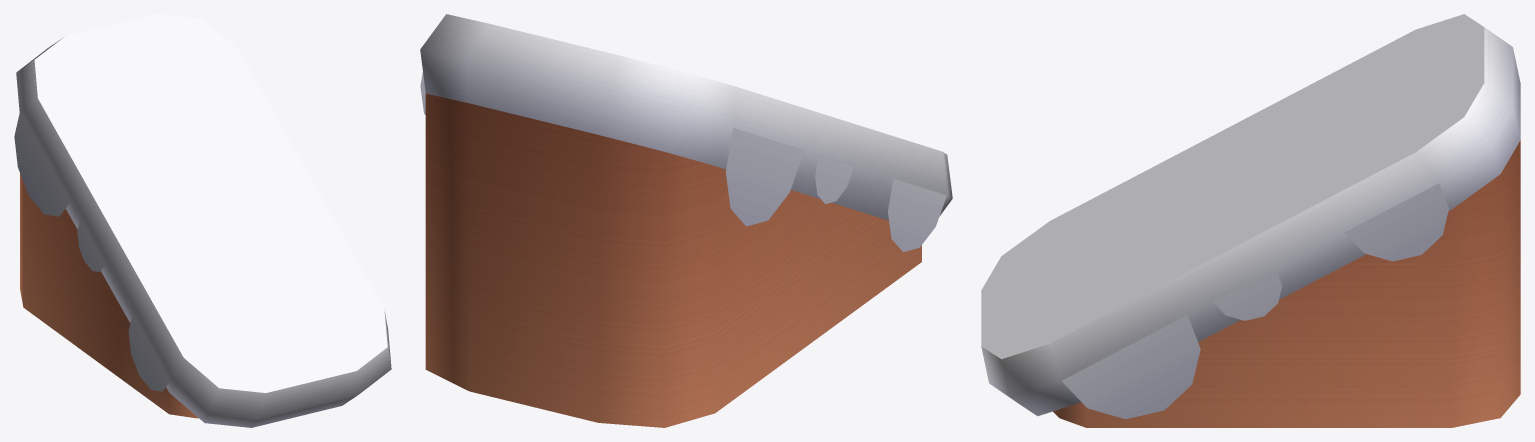
Rendered from block-snow-overhang-large-slope-steep-narrow.glb.
3 renders of one model, left to right at view 1: azimuth 30°, elevation 25°; view 2: azimuth 150°, elevation 25°; view 3: azimuth 270°, elevation 25°, orthographic. The views are drawn at different scales.
Visible parts, largest first — view 1: block-snow-overhang-large-slope-steep-narrow; view 2: block-snow-overhang-large-slope-steep-narrow; view 3: block-snow-overhang-large-slope-steep-narrow.
Part boxes in pixels (x1,y1,x2,y2): block-snow-overhang-large-slope-steep-narrow: (14,14,391,427); block-snow-overhang-large-slope-steep-narrow: (420,14,952,427); block-snow-overhang-large-slope-steep-narrow: (981,14,1520,427).
Bounding box in the file's own units: 1.08 × 1.22 × 1.86.
Materials: 1 (1 with a texture image).
